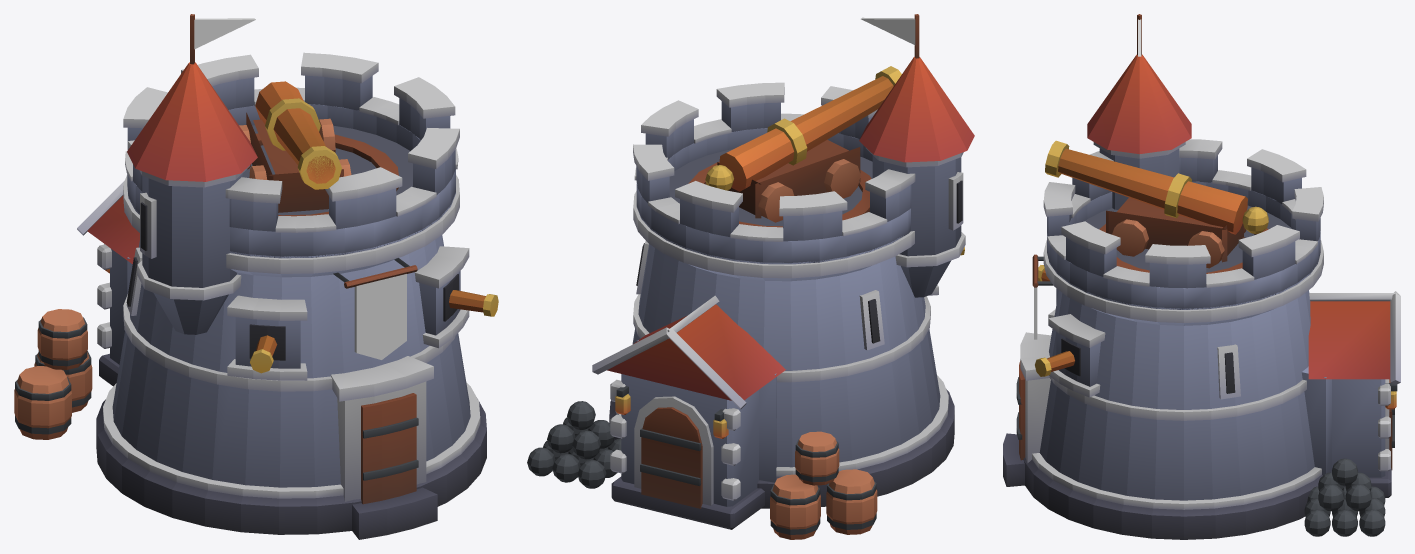
The model's file is armory.glb.
3 views of the same model, side by side, from view 1: azimuth 30°, elevation 25°; view 2: azimuth 150°, elevation 25°; view 3: azimuth 270°, elevation 25° (orthographic). The views are drawn at different scales.
Parts seen in each view (by area): view 1: body, flag; view 2: body, flag; view 3: body.
Boxes of the visible parts, x1,y1,x2,y2 form: body: [14, 14, 498, 539]; flag: [194, 18, 406, 359]; body: [527, 14, 974, 539]; flag: [861, 17, 915, 44]; body: [1003, 14, 1400, 539].
Size of the model in its own units: 4.31 by 5.55 by 4.94.
